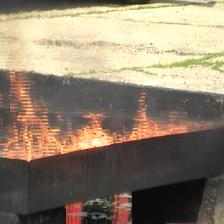fire: (0, 50, 216, 161)
